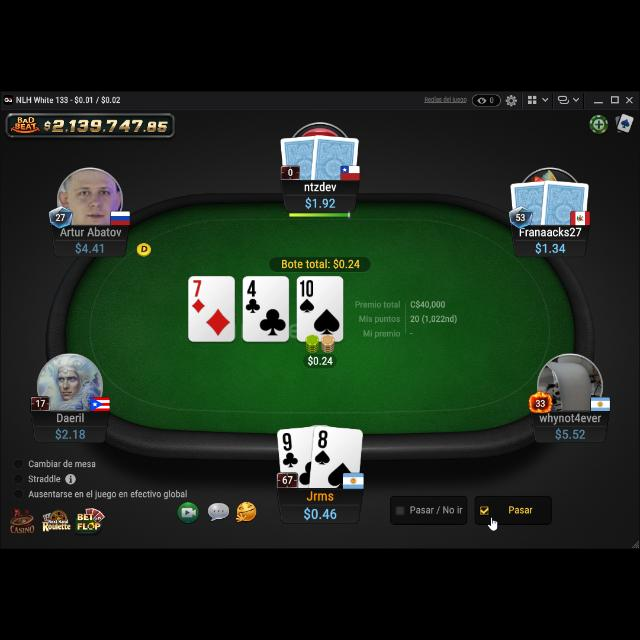4c: (244, 280, 262, 314)
7d: (190, 278, 208, 314)
8s: (314, 428, 332, 468)
9c: (280, 432, 300, 470)
Ts: (298, 278, 316, 314)
bet_text: (306, 352, 334, 366)
card_back: (309, 132, 361, 182), (539, 178, 591, 228), (508, 178, 554, 226), (279, 132, 323, 182)
dealer: (134, 240, 154, 258)
pot_text: (281, 257, 361, 271)
stack_text: (302, 506, 338, 522), (304, 194, 338, 210), (533, 240, 567, 256), (554, 426, 586, 442), (74, 241, 106, 255), (54, 428, 86, 440)
